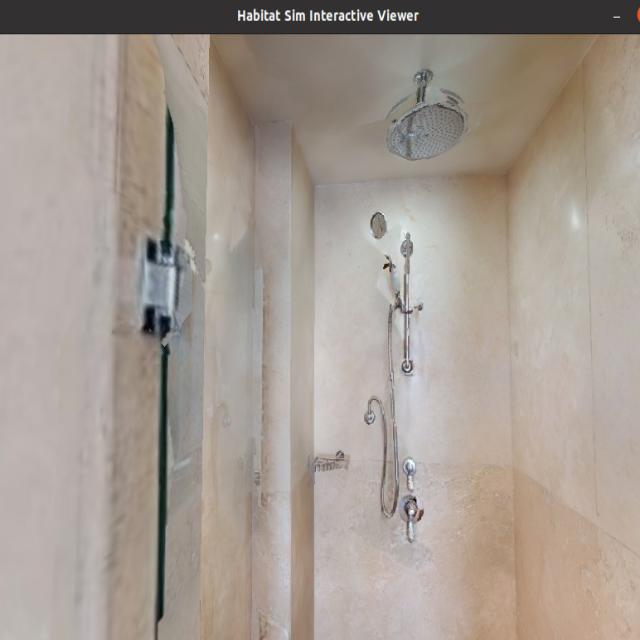shower: (246, 36, 519, 640)
